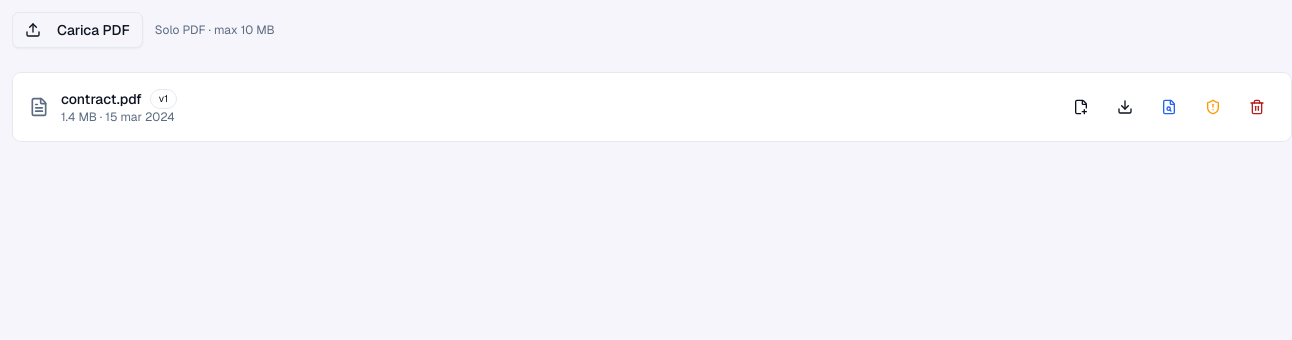
DocumentsTab › clause risk analysis › shows detected risky clauses after clicking the button
What coordinates should you click on to do the following:
click the button titled "Rileva clausole a rischio"
I would click on:
 (1213, 107)
Its box is top-left (1195, 91), bottom-right (1231, 123).
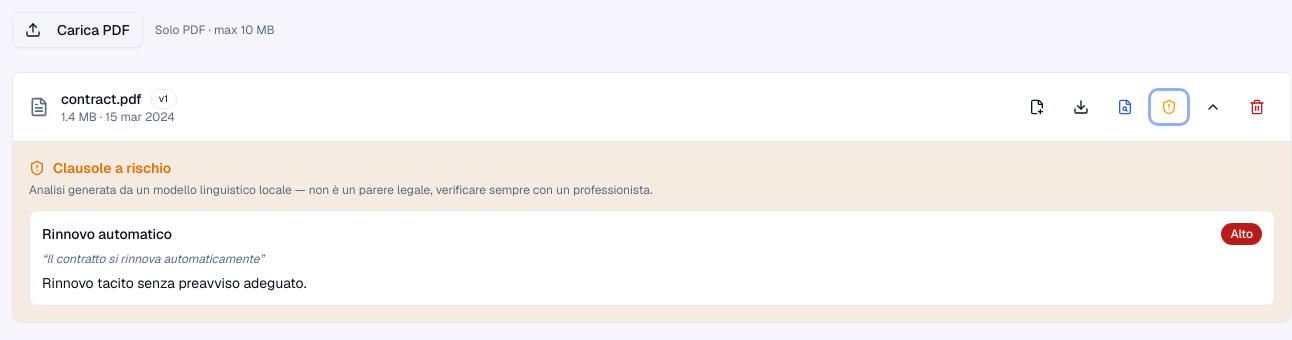
Check: the text "Rinnovo automatico" is shown, box top-left (42, 224), bottom-right (172, 244)
Check: the text "Rinnovo tacito senza preavviso adeguato." is shown, box top-left (42, 274), bottom-right (306, 292)
